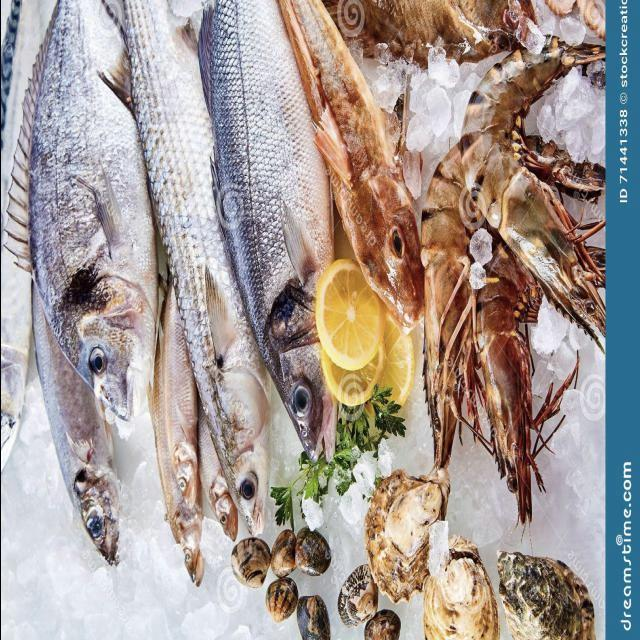fish: (115, 0, 268, 535), (197, 0, 330, 460), (26, 0, 157, 423), (276, 0, 421, 328), (31, 290, 118, 563), (0, 0, 42, 471), (148, 277, 202, 586)
